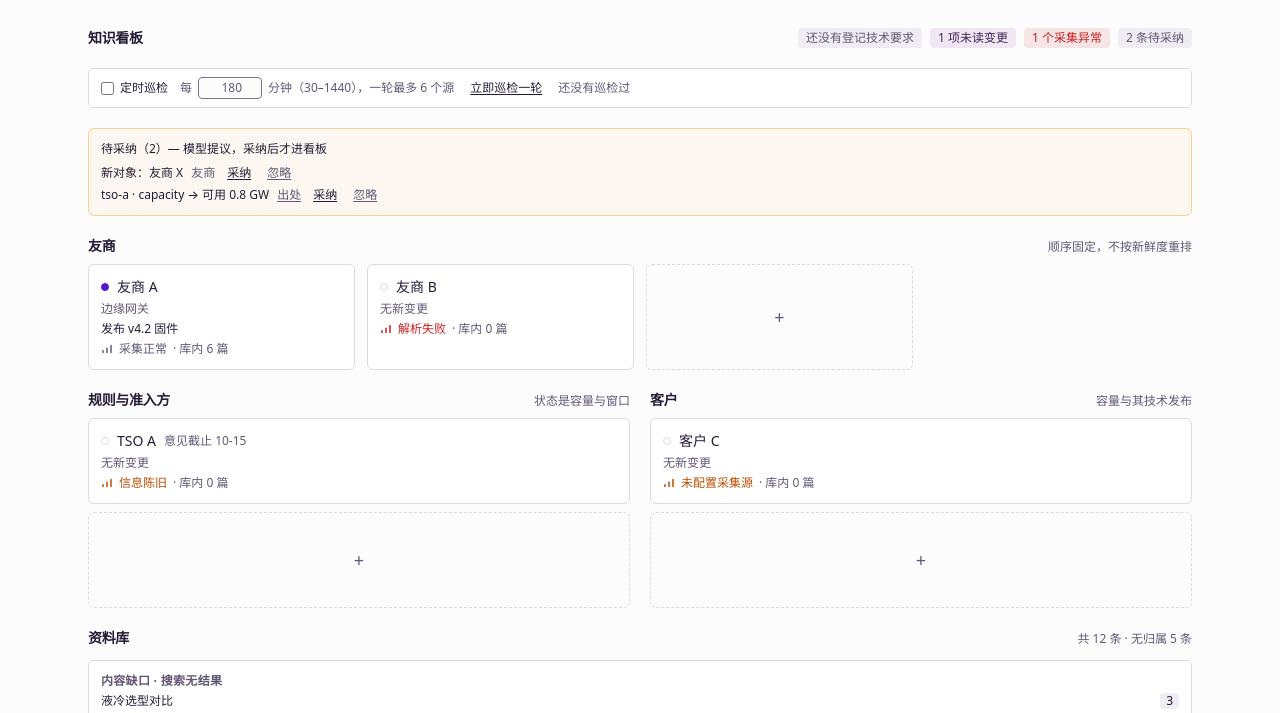
Test: KnowledgeDashboard › ㉓ 巡检间隔编辑中时，后台巡检刷新不覆盖输入框里还没提交的值
// Start editing: focus + type a new value, but do not commit it.
Replace the text in the number field named "巡检间隔（分钟）" with "45" at (230, 88), box x1=198 y1=77 x2=262 y2=99
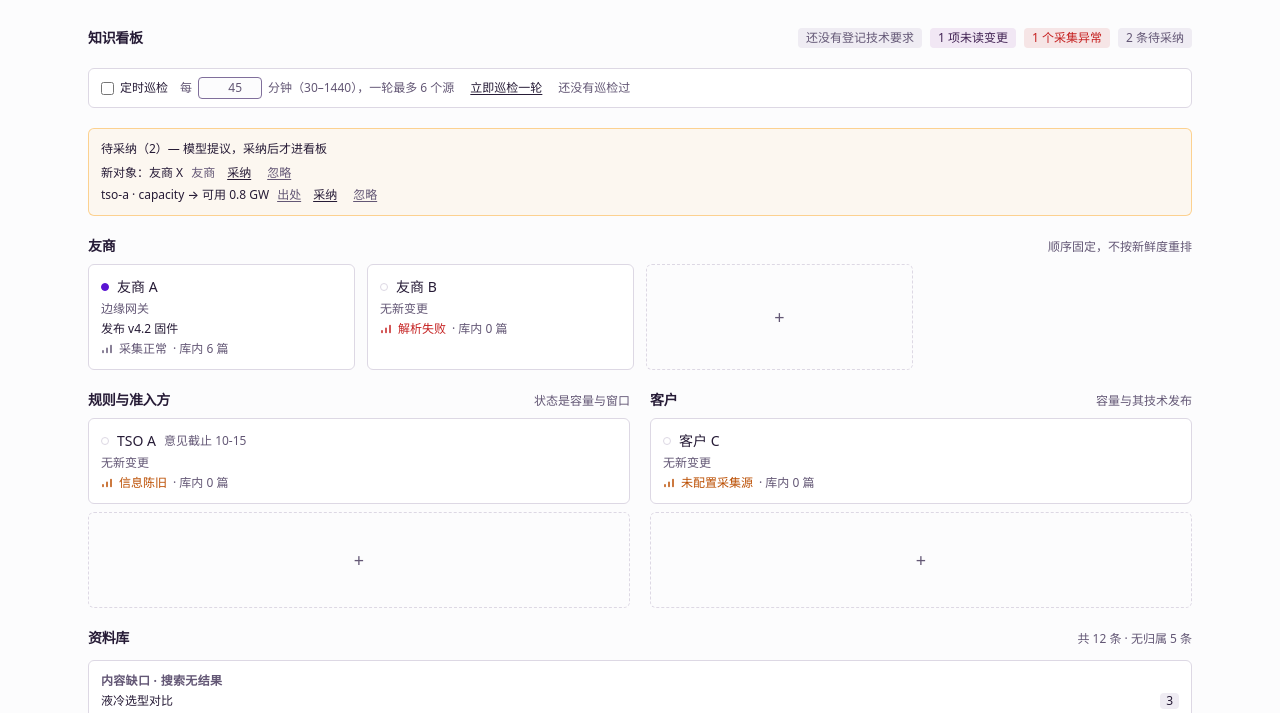
Click the checkbox.
click(108, 88)  # box x1=101 y1=82 x2=114 y2=94
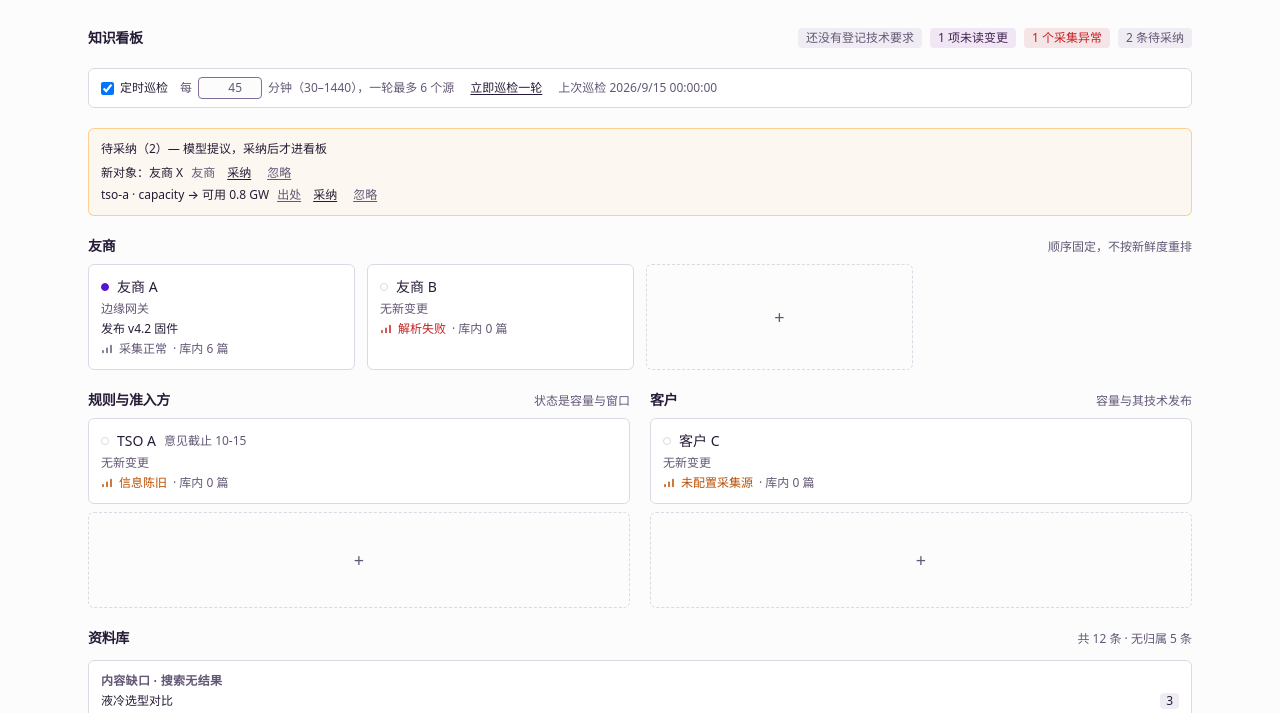
Check: the text "上次巡检 2026/9/15 00:00:00" is shown, box x1=558 y1=80 x2=717 y2=96
